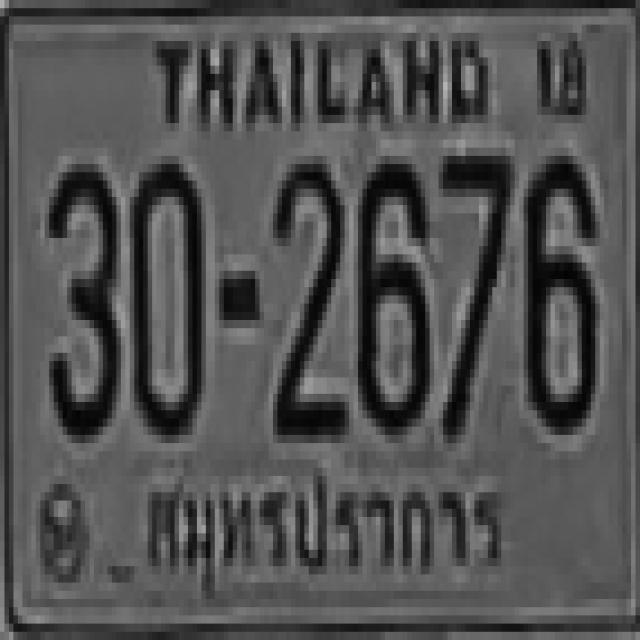0: (130, 156, 201, 435)
2: (273, 156, 340, 435)
3: (45, 156, 116, 435)
6: (354, 156, 425, 427), (524, 148, 590, 426)
7: (439, 148, 510, 435)
SamutPrakan: (136, 466, 504, 590)
